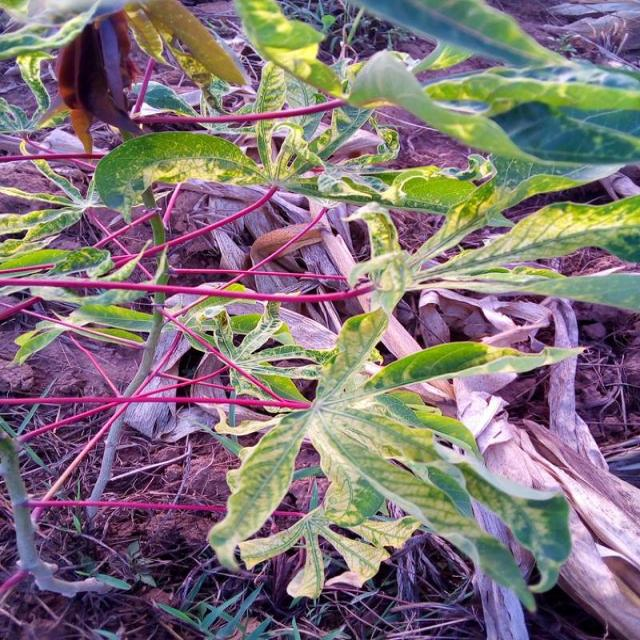cassava leaf: (1, 1, 638, 633), (205, 300, 579, 614)
